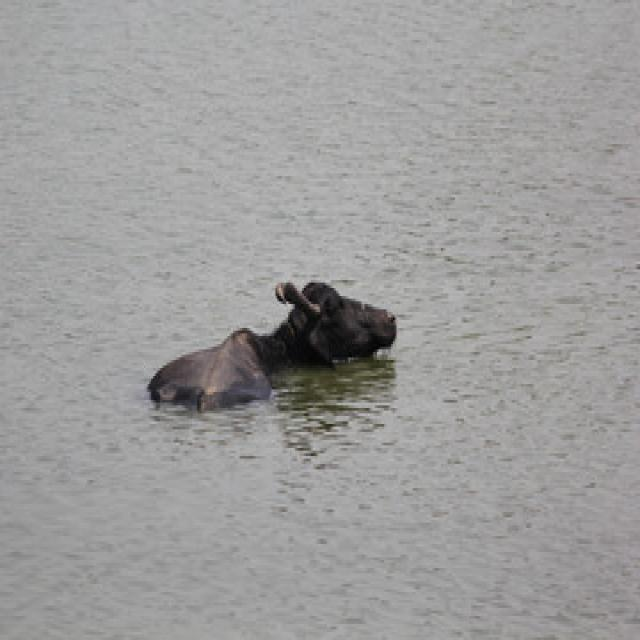Buffalo: (144, 272, 398, 413)
